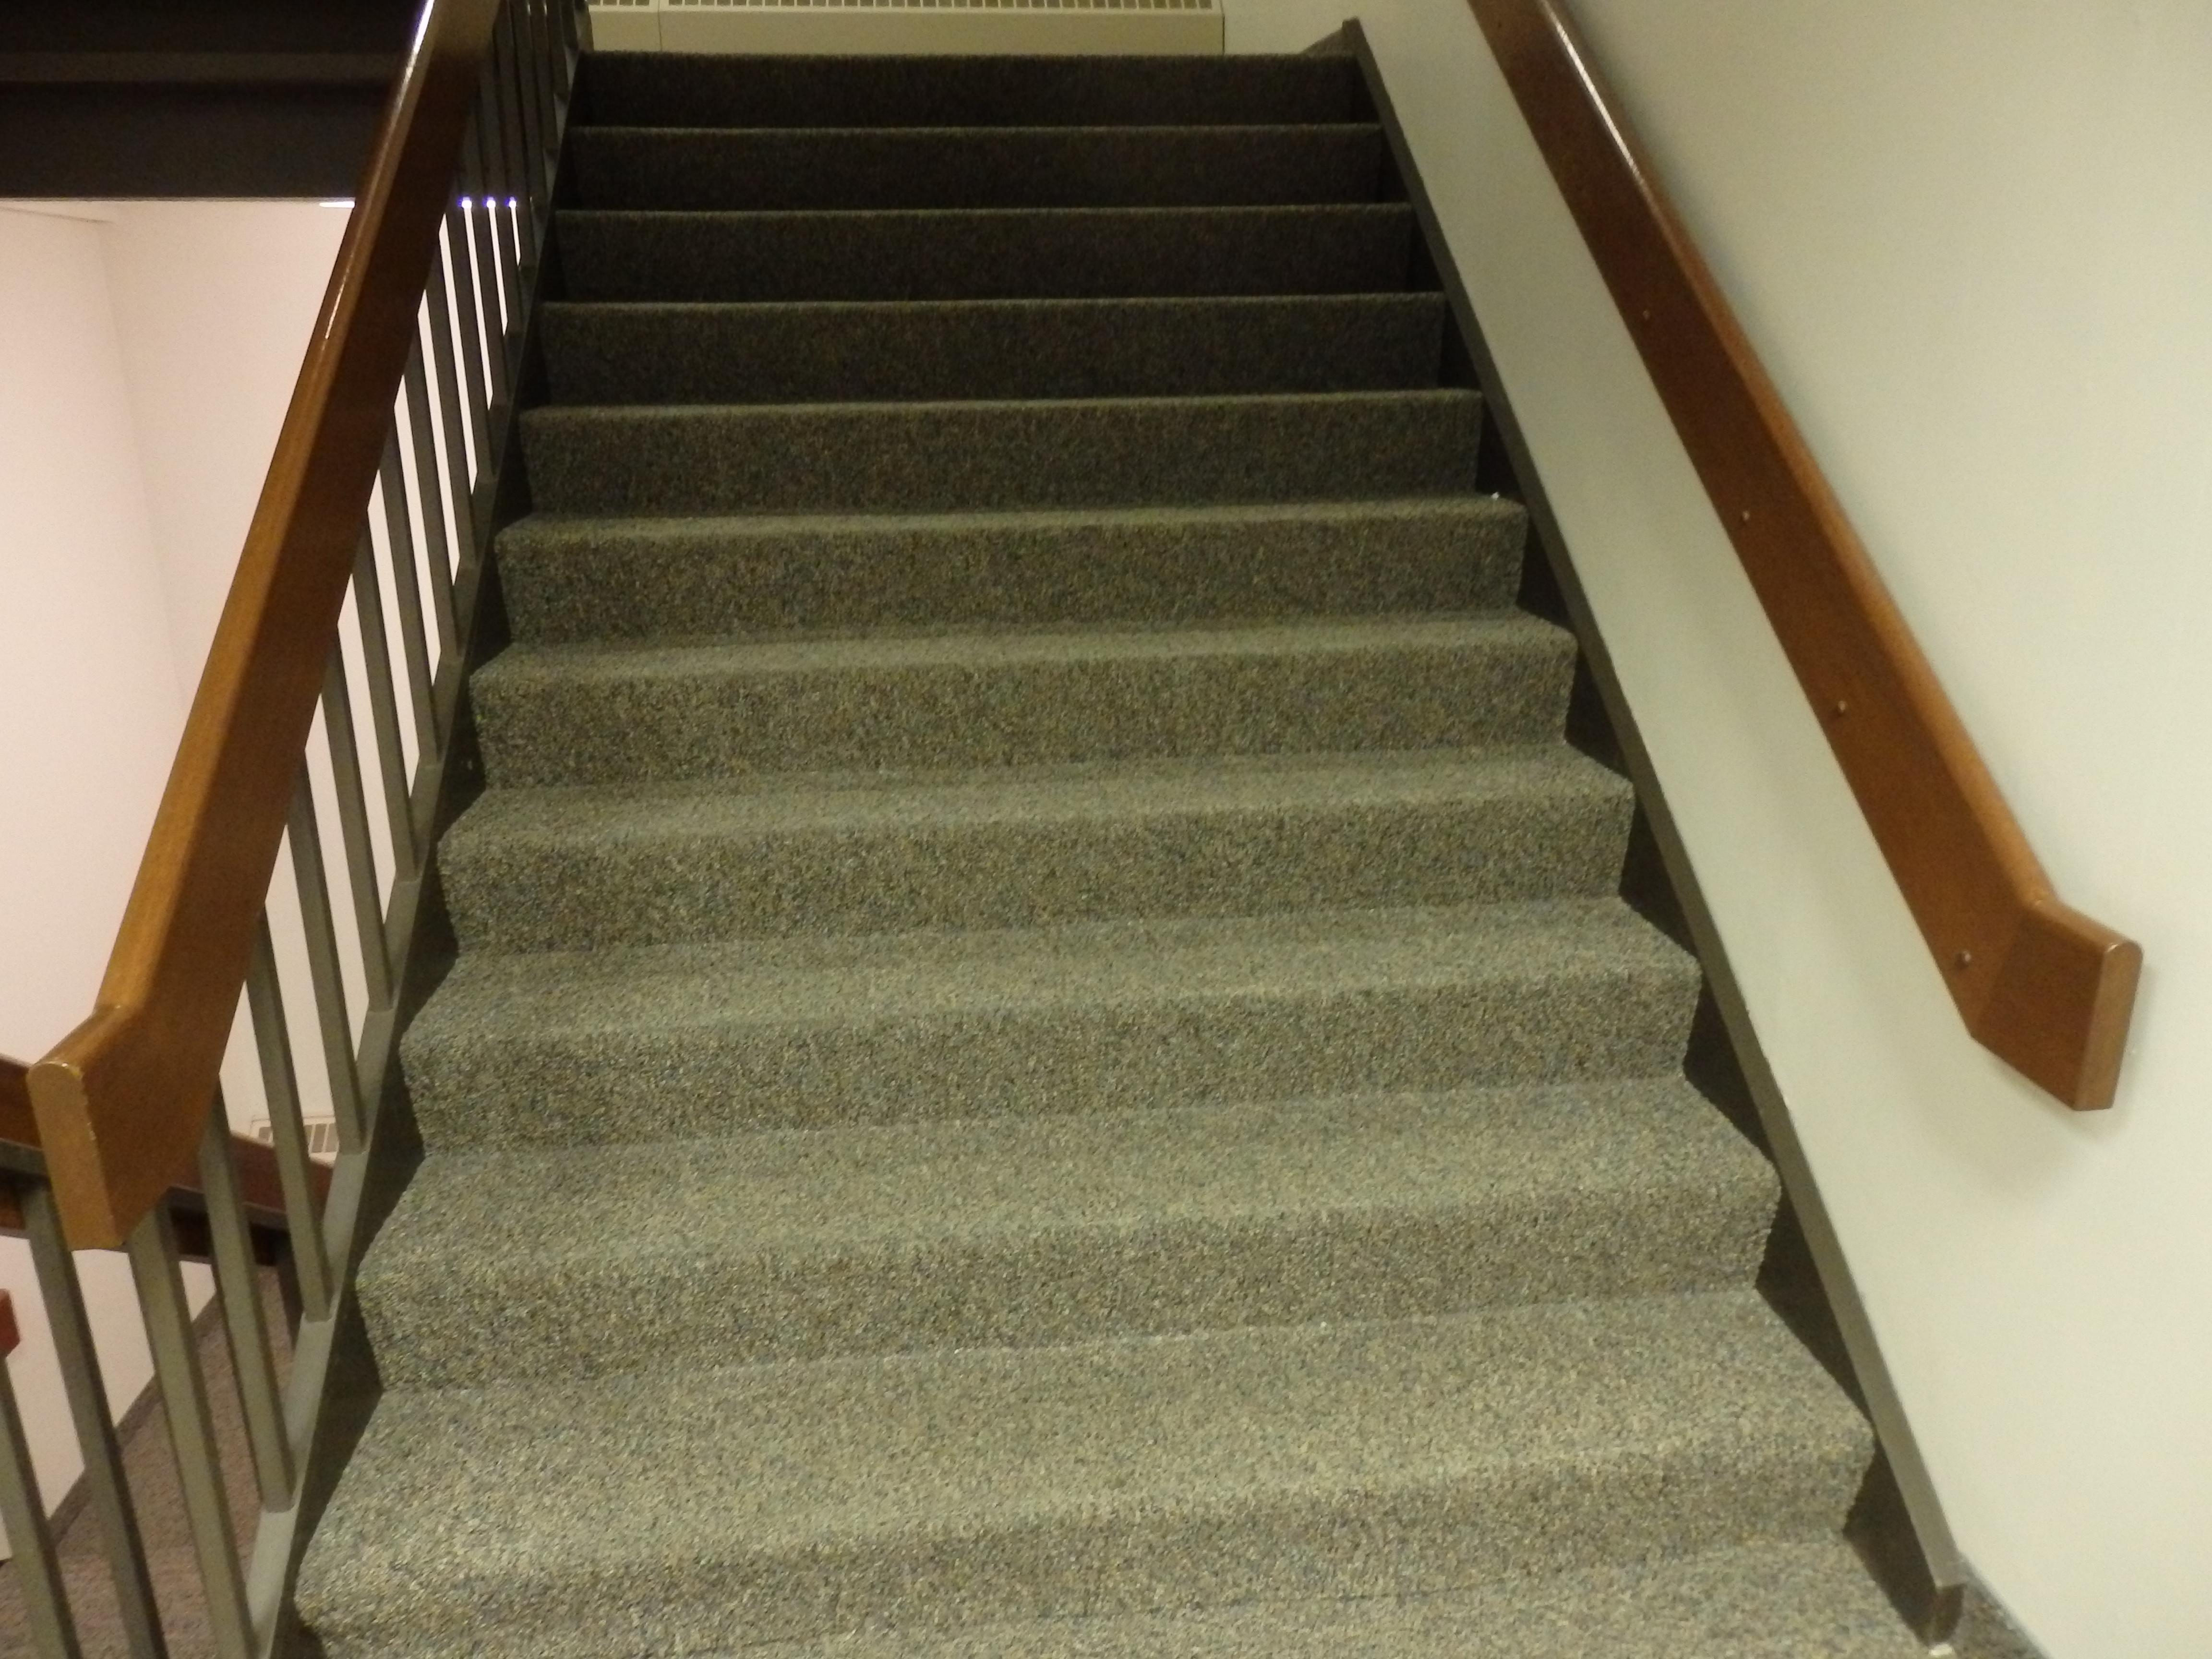stairs_up: (279, 0, 1881, 1631)
